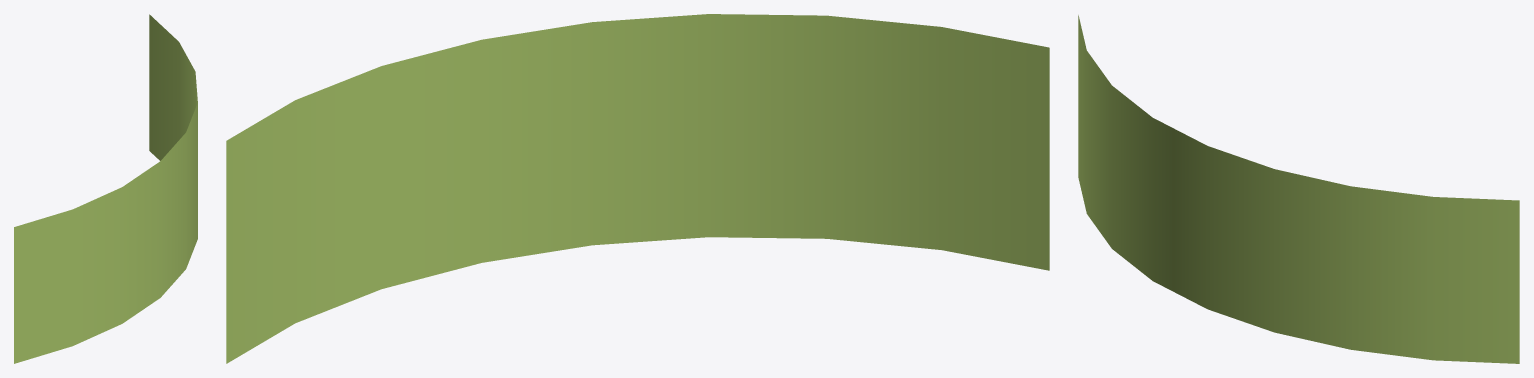
File: ArrowMesh.fbx
3 renders of one model, left to right at view 1: azimuth 30°, elevation 25°; view 2: azimuth 150°, elevation 25°; view 3: azimuth 270°, elevation 25°, orthographic. The views are drawn at different scales.
Parts seen in each view (by area): view 1: 円柱; view 2: 円柱; view 3: 円柱.
Part boxes in pixels (<box>): 円柱: <box>14,14,197,363</box>; 円柱: <box>226,14,1049,363</box>; 円柱: <box>1078,15,1519,363</box>.
Bounding box in the file's own units: 100 × 40.88 × 100.
